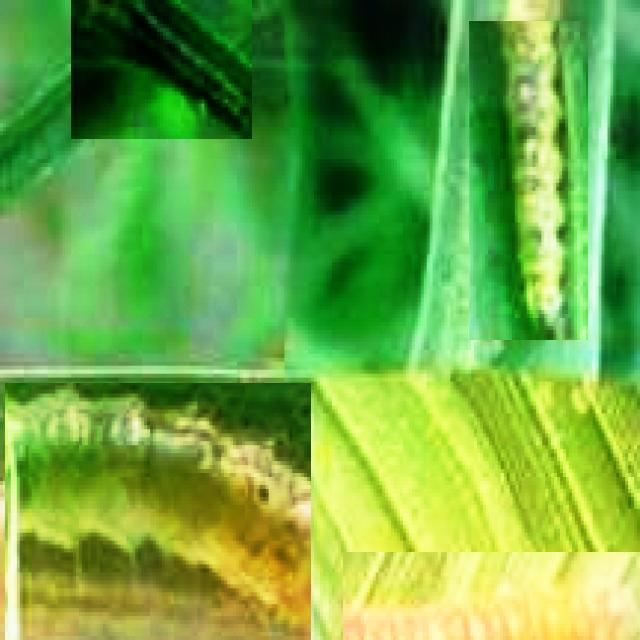leaf-folder: (5, 383, 311, 640), (469, 21, 588, 340), (343, 552, 640, 640), (71, 0, 252, 139)
